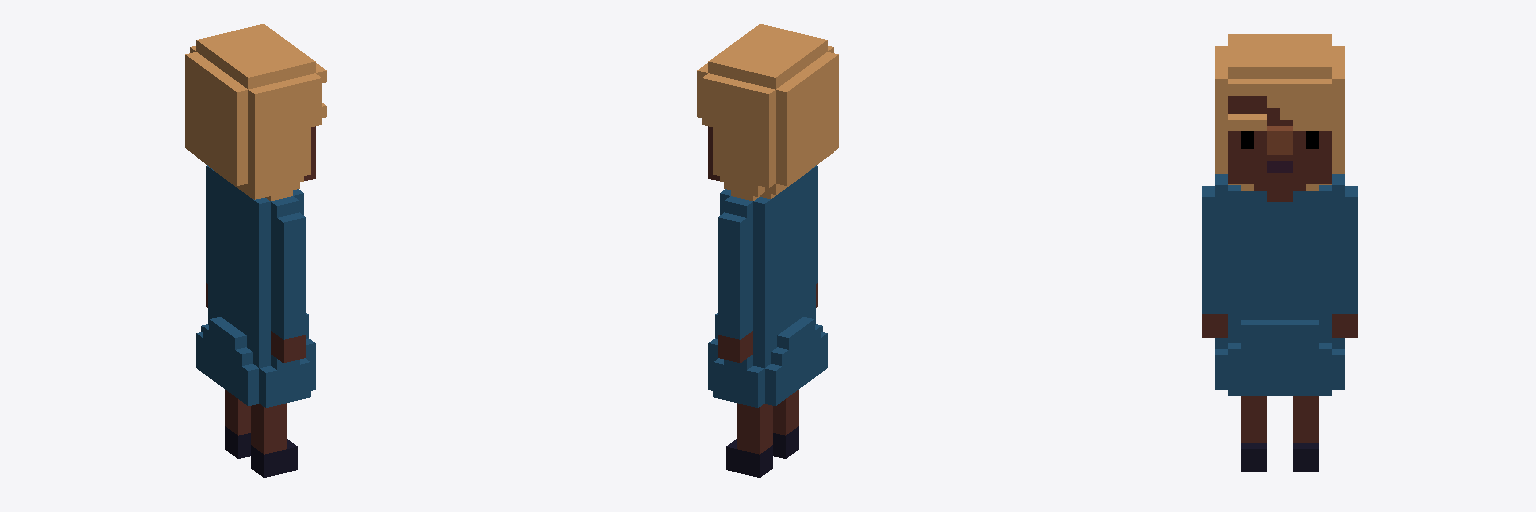
3 views of the same model, side by side, from view 1: azimuth 30°, elevation 25°; view 2: azimuth 150°, elevation 25°; view 3: azimuth 270°, elevation 25° (orthographic).
Visible parts, largest first — view 1: object 1; view 2: object 1; view 3: object 1.
Boxes of the visible parts, <box> form: object 1: <box>185,24,326,477</box>; object 1: <box>697,24,838,477</box>; object 1: <box>1202,34,1357,471</box>.
Bounding box in the file's own units: 0.8 × 3.5 × 1.2.
1 materials, 1 textured.